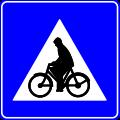Cycle Crossing: (15, 14, 106, 107)
